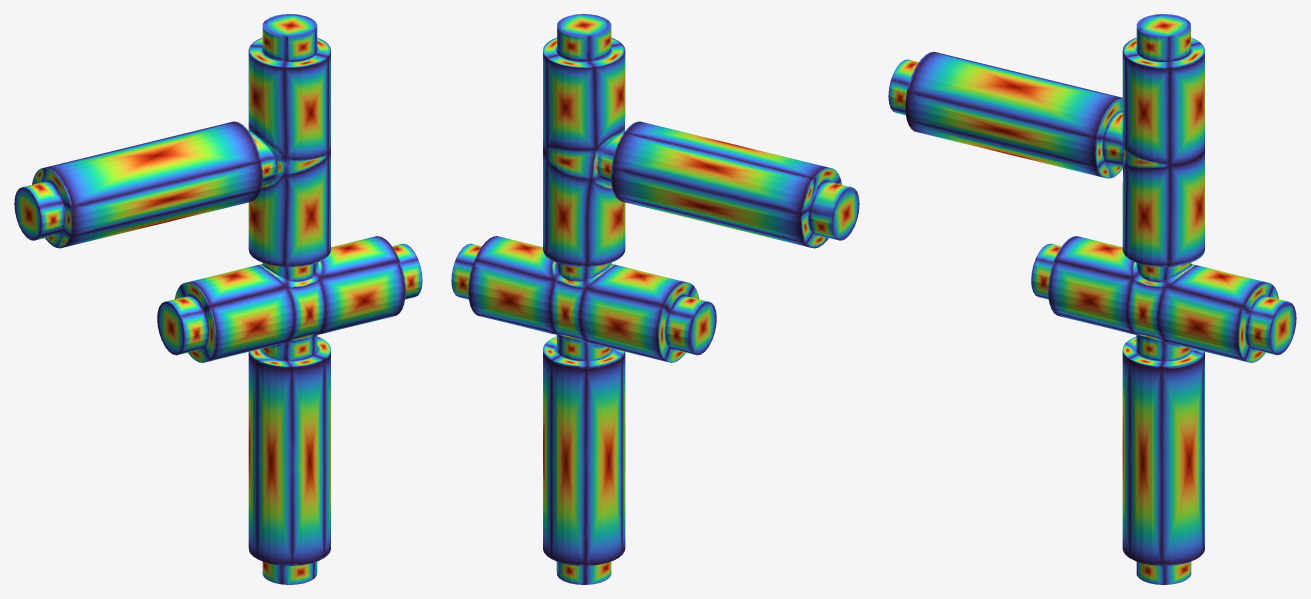
The model's file is gen1.glb.
3 views of the same model, side by side, from view 1: azimuth 30°, elevation 25°; view 2: azimuth 150°, elevation 25°; view 3: azimuth 330°, elevation 25° (orthographic).
Visible parts, largest first — view 1: Node; view 2: Node; view 3: Node.
Part boxes in pixels (x1,y1,x2,y2): Node: (14, 14, 422, 584); Node: (451, 14, 859, 584); Node: (888, 14, 1296, 584).
Size of the model in its own units: 320 by 440 by 60.
1 material, 1 textured.
